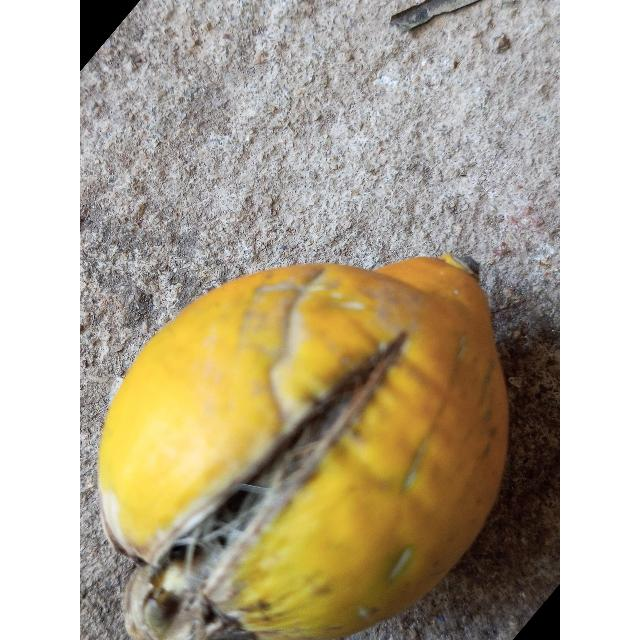damaged: (97, 255, 510, 640)
